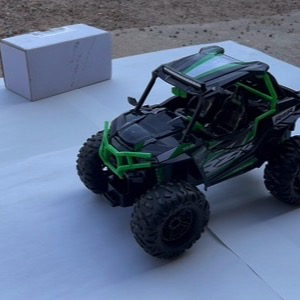polaris: (75, 45, 299, 263)
